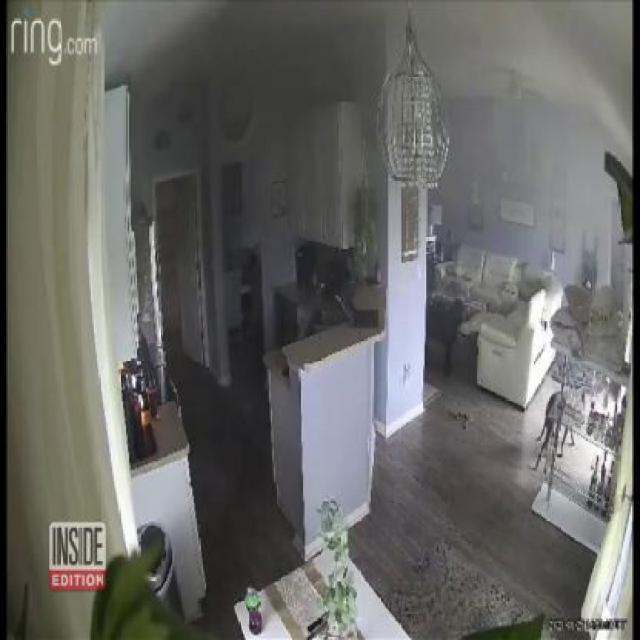smoke: (151, 14, 357, 111), (456, 100, 602, 200)
